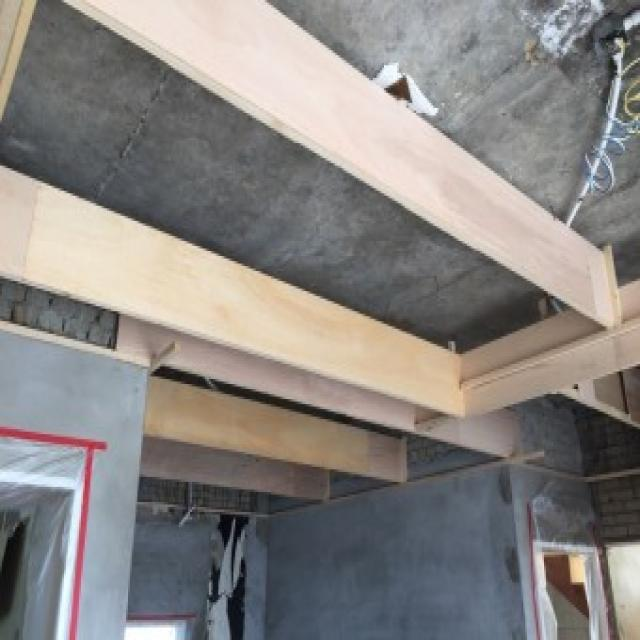wood: (61, 0, 618, 329), (0, 162, 466, 422), (115, 315, 527, 462), (142, 375, 408, 481), (459, 276, 640, 417)
